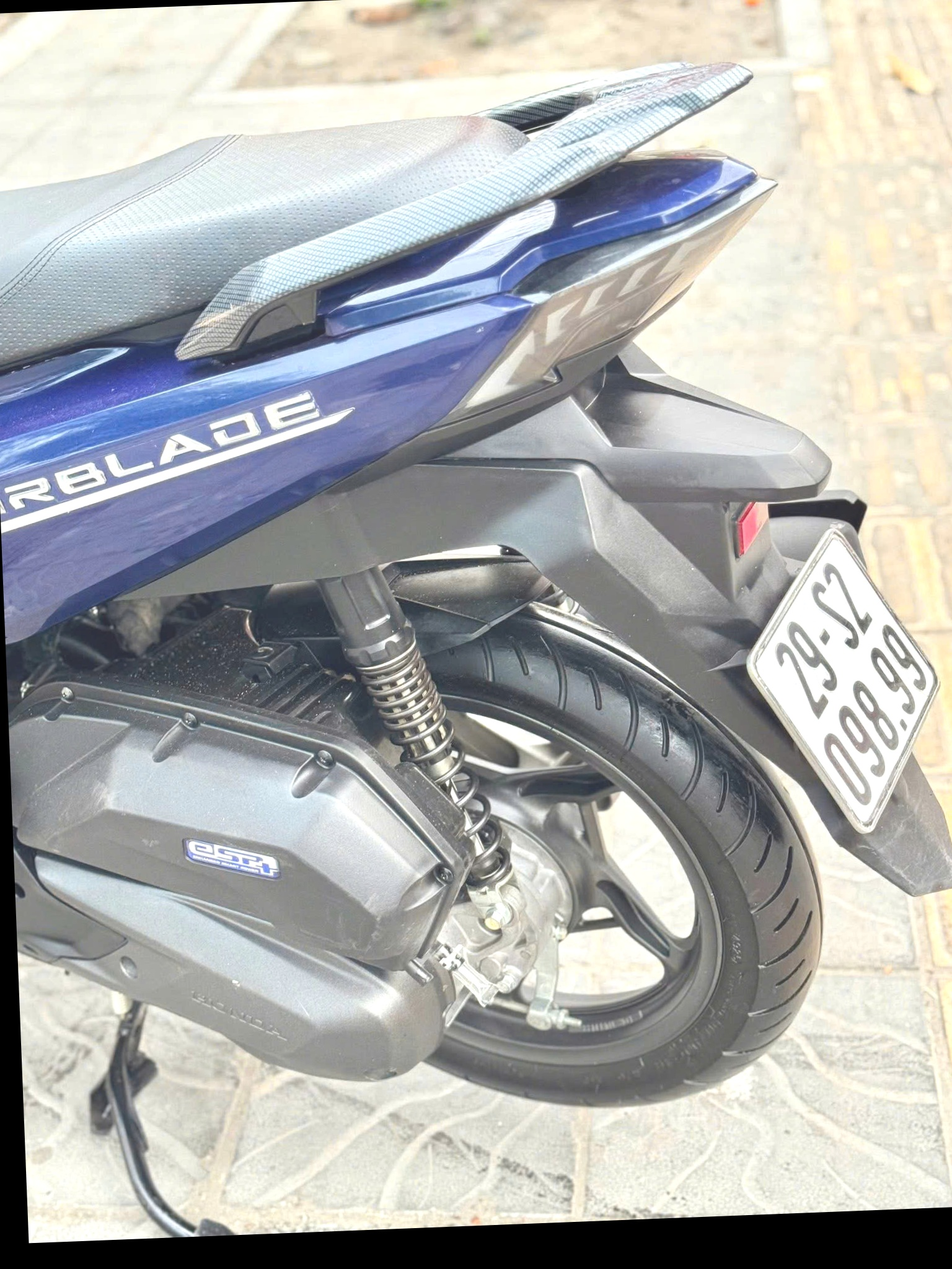Bien-so: (702, 559, 912, 904)
